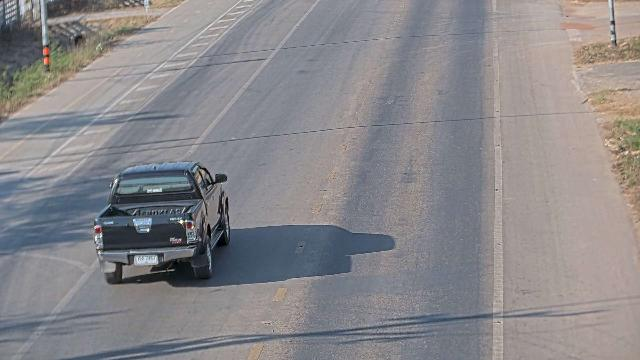pickup-truck: (92, 160, 231, 284)
